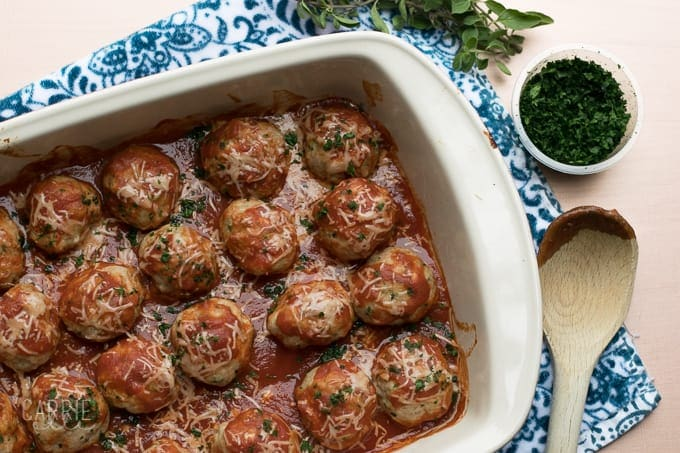meatballs: (45, 197, 443, 426)
